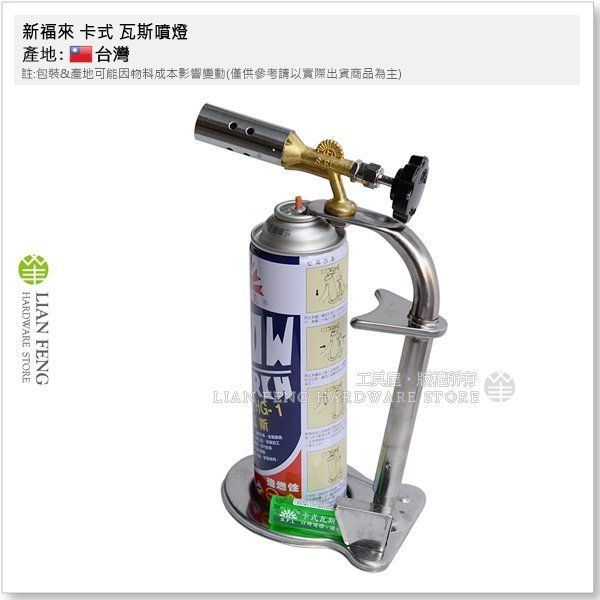gastorch: (191, 101, 452, 578)
